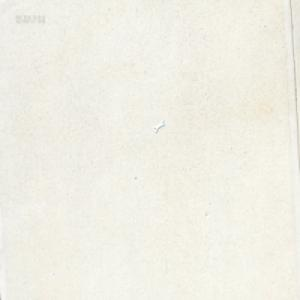Wrench: (154, 120, 164, 133)
